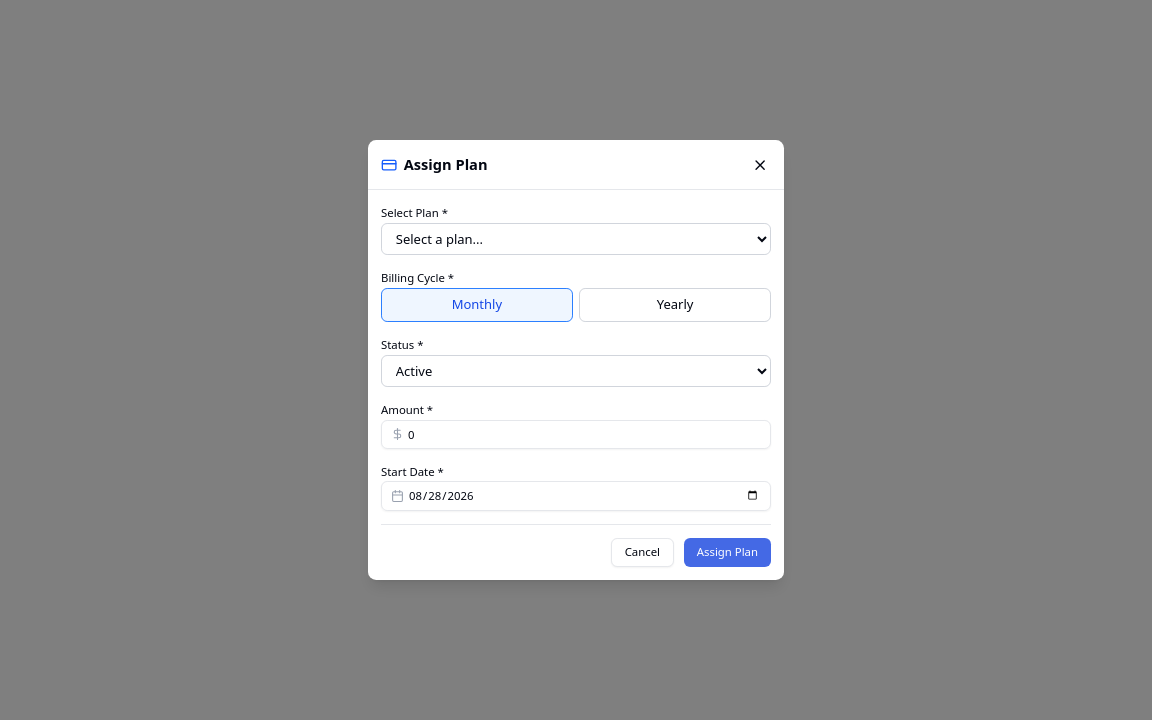
Scenario: AssignPlanModal yearly amount › shows the actual discount percentage on the yearly toggle
This screenshot has width=1152, height=720.
Select "Growth - $2500/monthly" in the dropdown labelled "Select Plan *" at (576, 239), box [381,222,771,255]
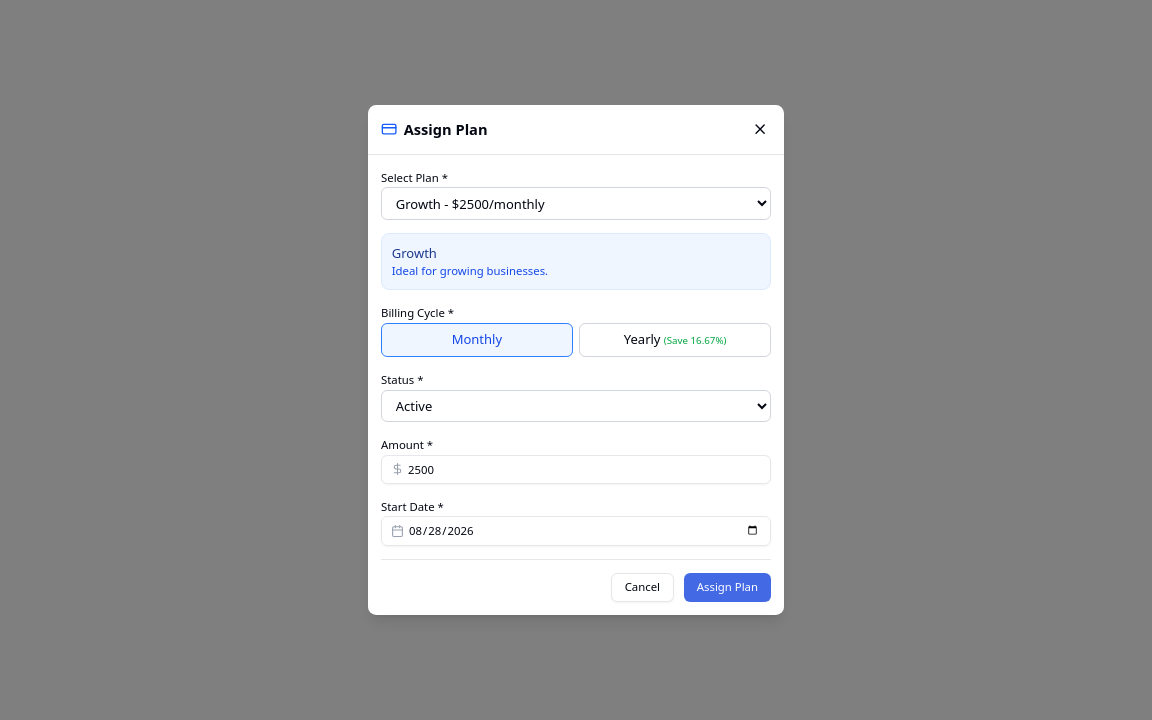
Check: the text "(Save 16.67%)" is shown, box [664,334,726,347]
